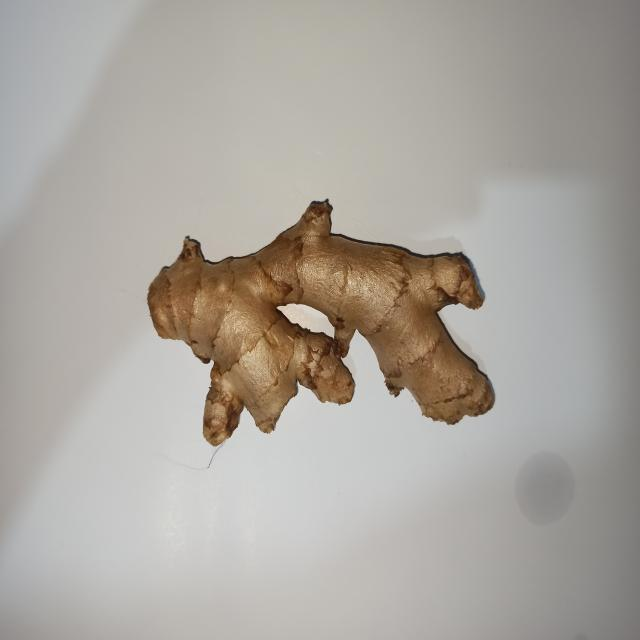ginger: (152, 227, 494, 440)
